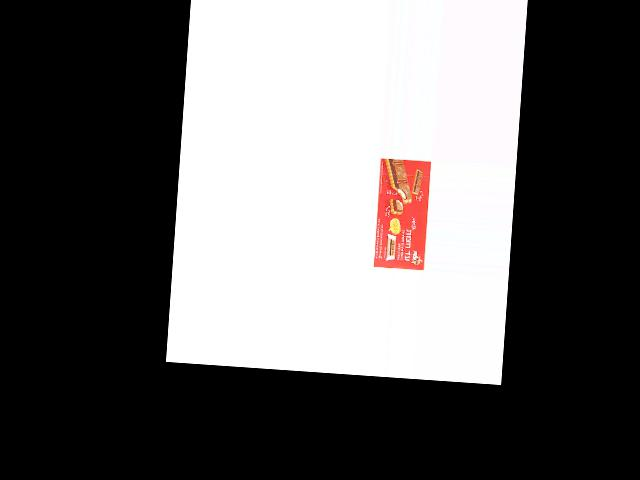chocolate: (372, 157, 431, 272)
